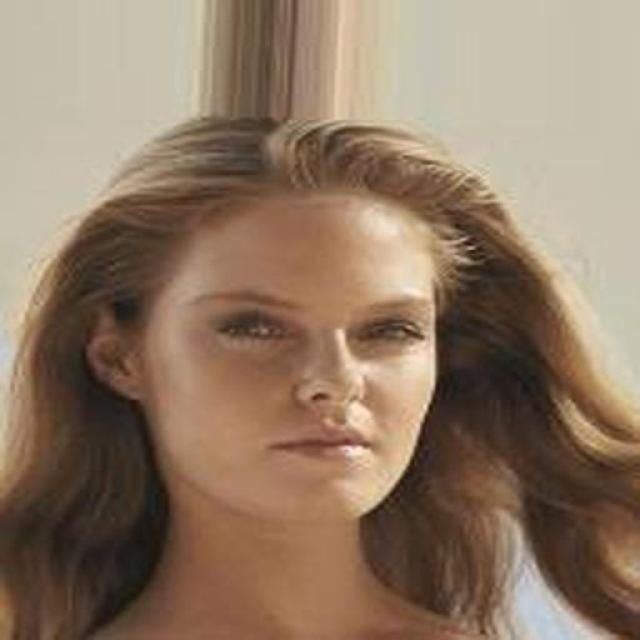bareface: (128, 191, 460, 531)
